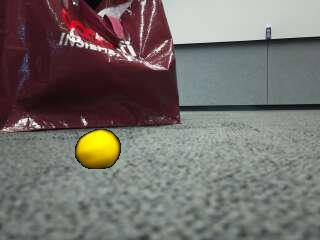lemon: (75, 131, 119, 170)
